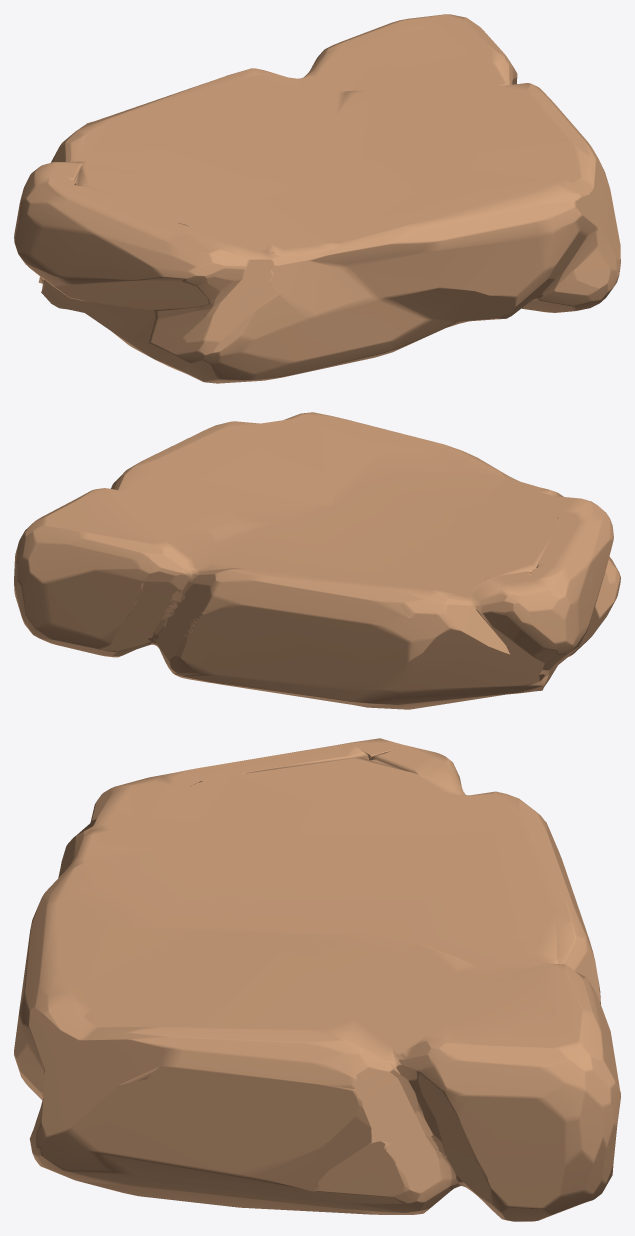
3 renders of one model, top to bottom at view 1: azimuth 30°, elevation 25°; view 2: azimuth 150°, elevation 25°; view 3: azimuth 270°, elevation 25°, orthographic. The views are drawn at different scales.
Parts seen in each view (by area): view 1: Mesh_118_LOD0; view 2: Mesh_118_LOD0; view 3: Mesh_118_LOD0.
Boxes of the visible parts, x1,y1,x2,y2 form: Mesh_118_LOD0: (14,14,620,383); Mesh_118_LOD0: (14,412,620,709); Mesh_118_LOD0: (14,738,620,1221).
Size of what is drawn, in the model's own units: 1610 by 422 by 1220.
